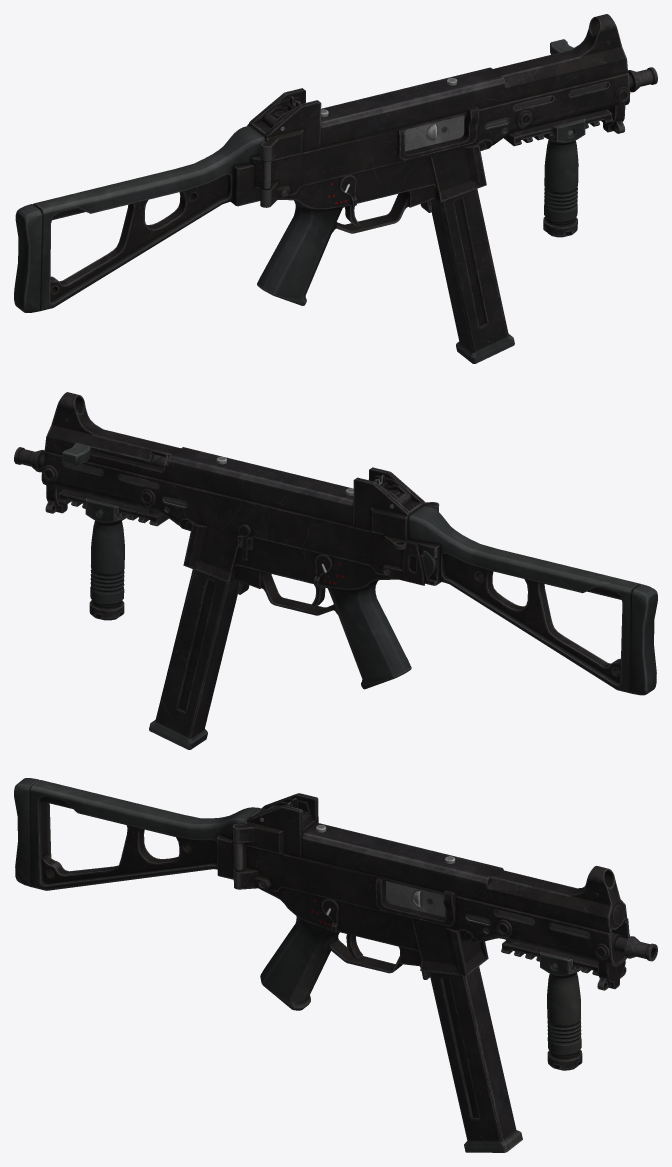
File: smg45_weapon.glb
3 views of the same model, one above another, from view 1: azimuth 30°, elevation 25°; view 2: azimuth 150°, elevation 25°; view 3: azimuth 330°, elevation 25° (orthographic).
Parts seen in each view (by area): view 1: WeaponBody, MagazineGeometry, ChargingHandleGeometry; view 2: WeaponBody, MagazineGeometry, BoltGeometry; view 3: WeaponBody, MagazineGeometry, ChargingHandleGeometry.
Boxes of the visible parts, x1,y1,x2,y2 form: WeaponBody: [14, 14, 657, 312]; MagazineGeometry: [431, 189, 514, 363]; ChargingHandleGeometry: [405, 115, 464, 151]; WeaponBody: [14, 392, 657, 695]; MagazineGeometry: [149, 569, 239, 749]; BoltGeometry: [62, 443, 166, 468]; WeaponBody: [14, 778, 657, 1070]; MagazineGeometry: [429, 966, 522, 1152]; ChargingHandleGeometry: [386, 881, 445, 917].
Bounding box in the file's own units: 1.13 × 0.5356 × 0.1231.
1 material, 1 textured.
